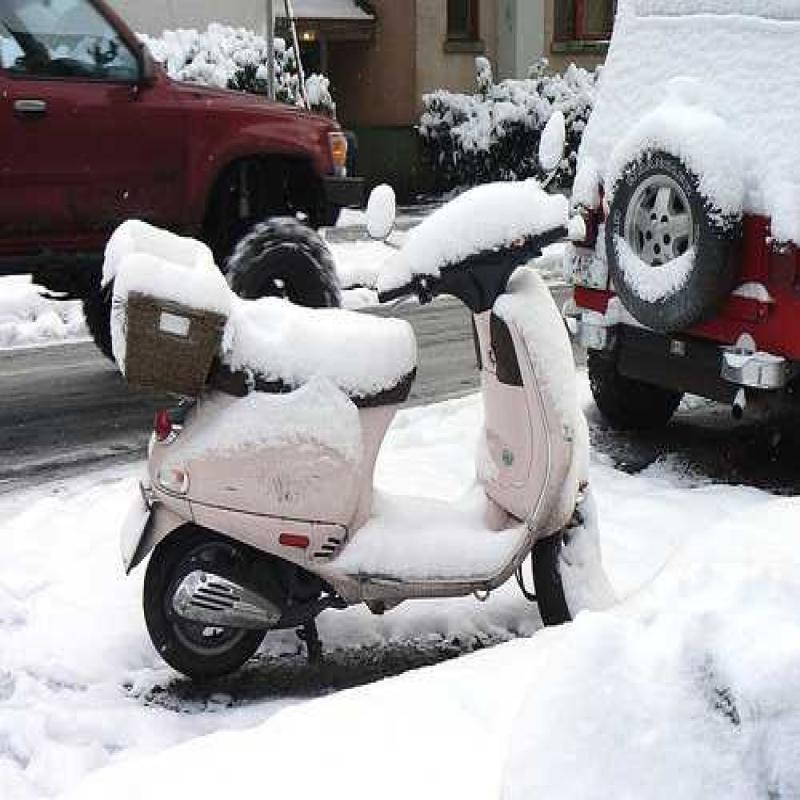bike: (104, 180, 654, 668)
